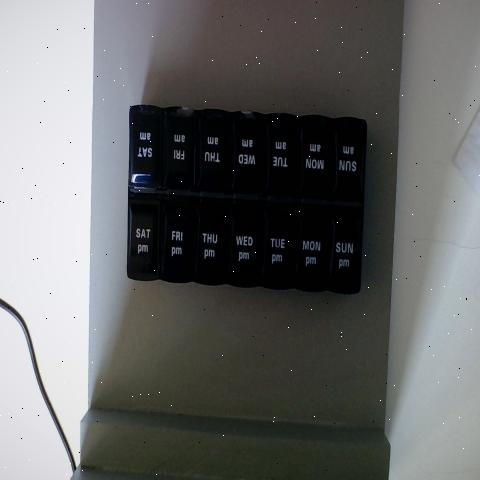FRI-am: (164, 104, 194, 185)
FRI-pm: (161, 197, 192, 282)
MON-am: (302, 116, 331, 201)
MON-pm: (294, 207, 328, 286)
PillBox: (118, 92, 379, 312)
SAT-am: (130, 104, 161, 190)
SAT-pm: (130, 197, 158, 278)
SUN-am: (332, 119, 364, 202)
SUN-pm: (332, 209, 360, 287)
THU-am: (196, 108, 229, 192)
THU-pm: (196, 199, 227, 281)
TUE-am: (266, 112, 297, 197)
TUE-pm: (264, 207, 293, 287)
WED-am: (230, 111, 264, 193)
WED-pm: (226, 201, 265, 283)
